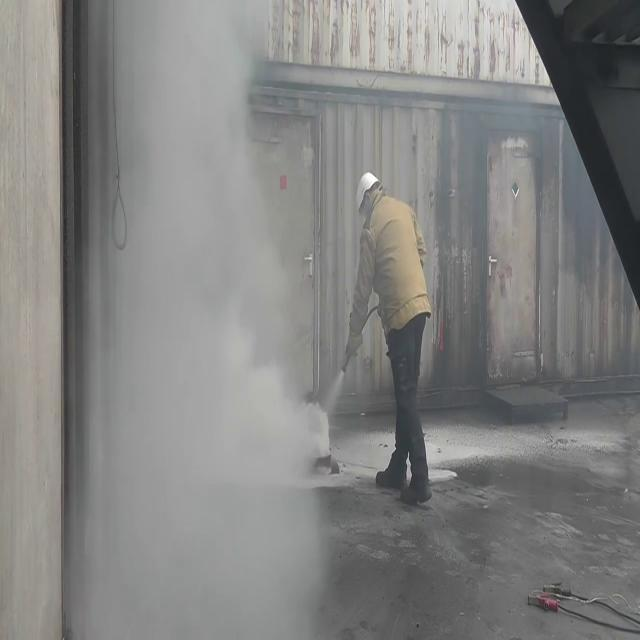Smoke: (83, 5, 318, 640)
